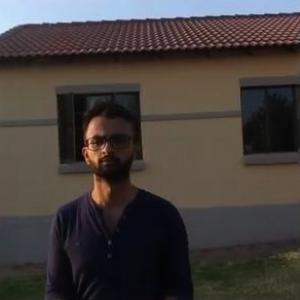follow: (40, 91, 200, 299)
